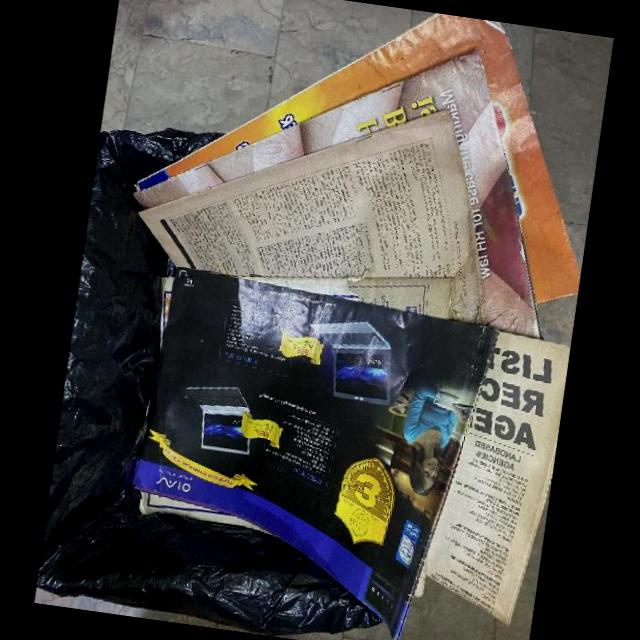giay: (131, 267, 498, 640), (136, 13, 581, 305), (132, 49, 544, 340), (138, 109, 486, 323), (422, 330, 571, 626)
